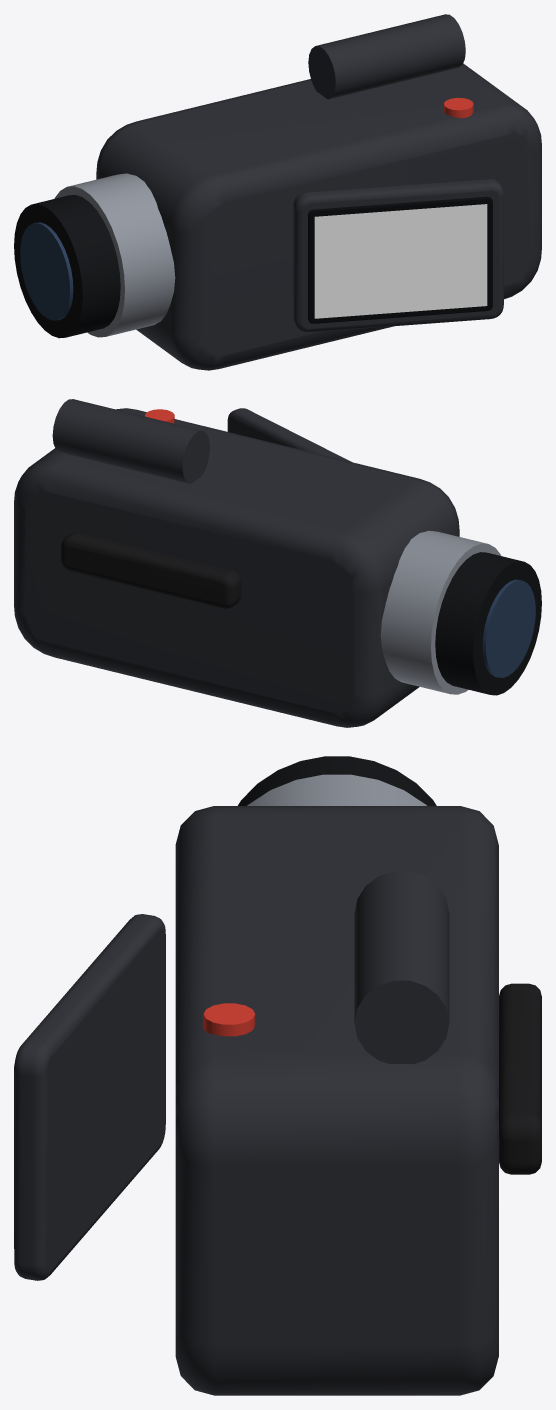
File: camcorder.glb
The picture shows the model from 3 angles, top to bottom: view 1: azimuth 30°, elevation 25°; view 2: azimuth 150°, elevation 25°; view 3: azimuth 270°, elevation 25°; orthographic projection. The views are drawn at different scales.
Parts seen in each view (by area): view 1: Body, Screen, Accent, Lens, Glass, Bezel, Rec; view 2: Body, Accent, Lens, Strap, Glass; view 3: Body, Strap, Accent, Lens, Rec.
Boxes of the visible parts, box(x1,y1,x2,y2) form: Body: box(96, 14, 541, 370); Screen: box(314, 204, 487, 318); Accent: box(54, 173, 175, 337); Lens: box(14, 195, 120, 338); Glass: box(20, 222, 73, 320); Bezel: box(308, 196, 492, 323); Rec: box(444, 97, 473, 118); Body: box(14, 399, 459, 727); Accent: box(380, 530, 501, 694); Lens: box(435, 552, 541, 695); Strap: box(61, 532, 241, 608); Glass: box(482, 579, 535, 677); Body: box(14, 806, 498, 1395); Strap: box(499, 983, 541, 1174); Accent: box(247, 774, 426, 805); Lens: box(238, 756, 436, 805); Rec: box(203, 1003, 255, 1036).
Size of the model in its own units: 0.423 by 0.2117 by 0.2449.
